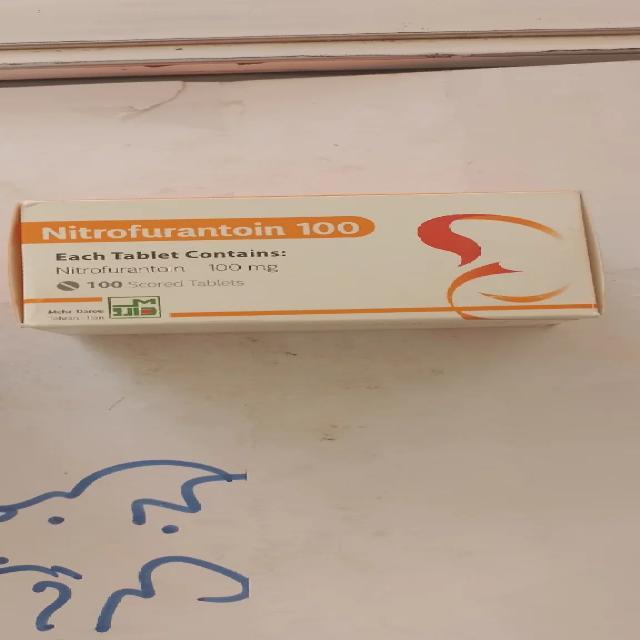drug-name: (44, 220, 358, 241)
